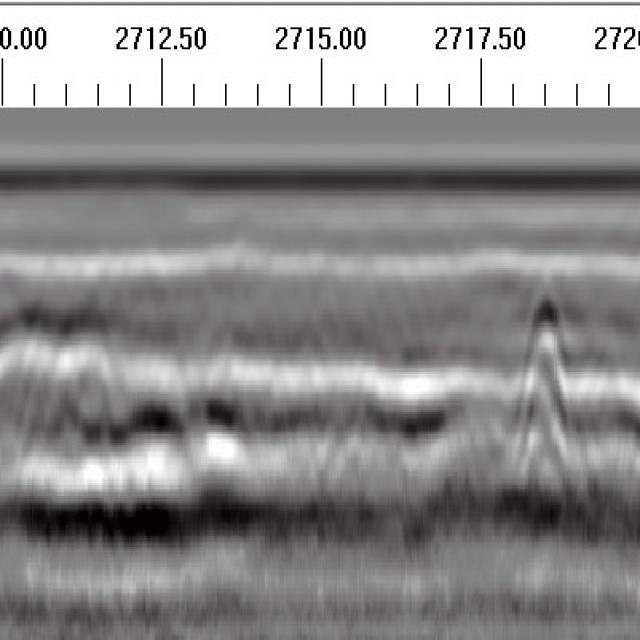crack: (520, 267, 574, 552)
loose: (10, 302, 290, 588)
